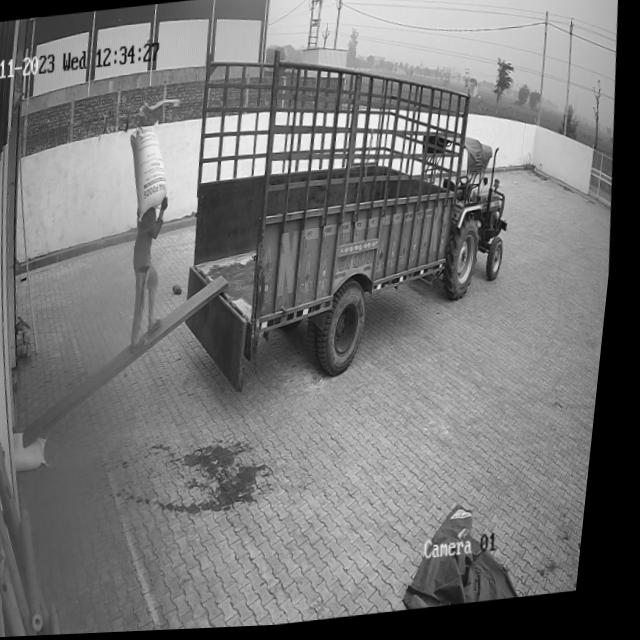sack: (124, 121, 177, 224), (18, 430, 59, 473)
